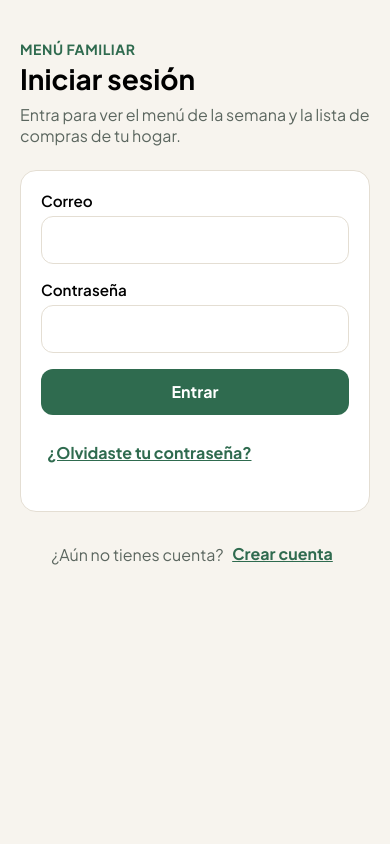
Test: Iniciar sesión (HU-01) › CA-01.3 credenciales inválidas: "Correo o contraseña incorrectos"
Expected: the heading "Iniciar sesión" is shown, [20,61,195,96]
Type "rene@correo.com" into the field labelled "Correo" at (195, 240), box [41,216,349,264]
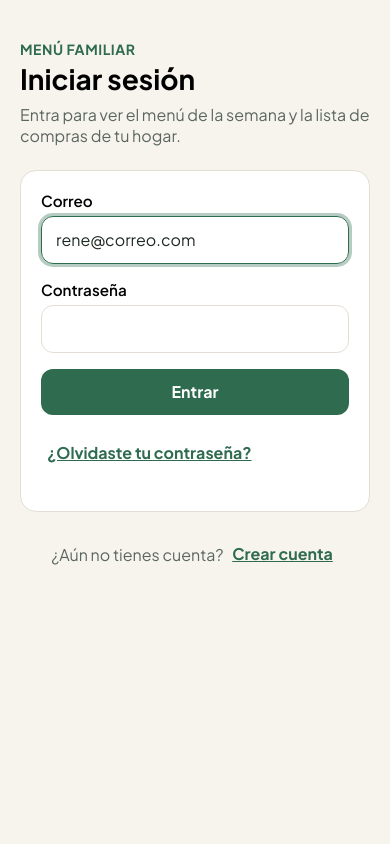
Type "incorrecta1" into the password field labelled "Contraseña" at (195, 329), box [41,305,349,353]
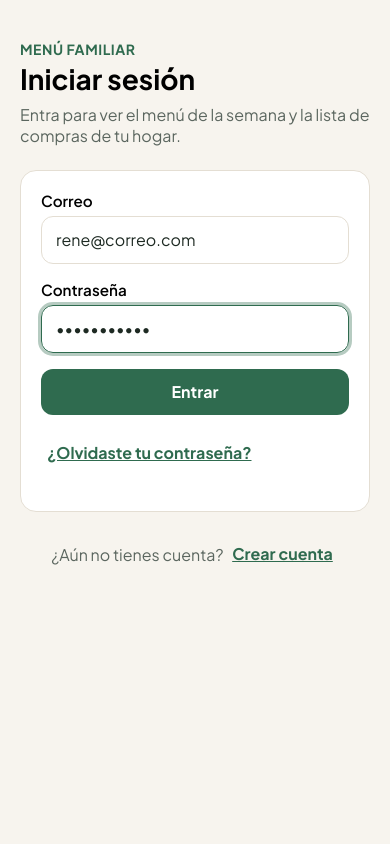
Click the button "Entrar" at (195, 392), box [41,369,349,415]
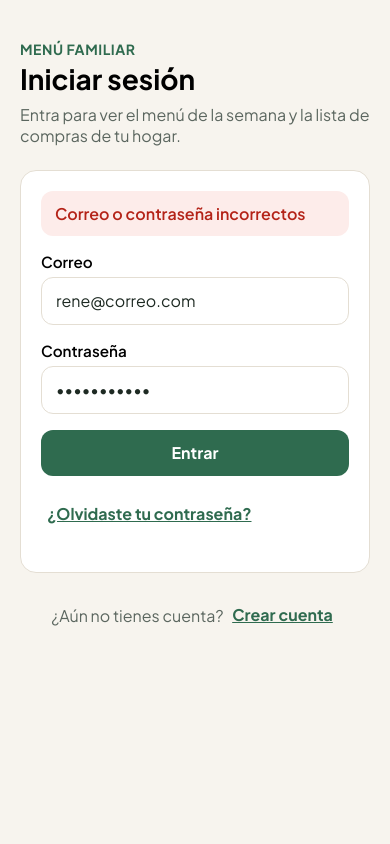
Expected: the message reads "Correo o contraseña incorrectos", [55,203,306,224]
